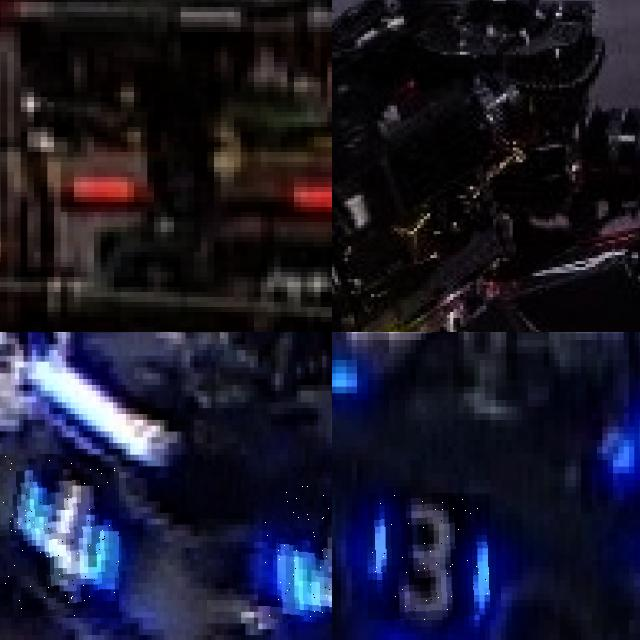B3: (368, 493, 490, 620)
B4: (0, 454, 119, 617), (262, 483, 332, 623)
